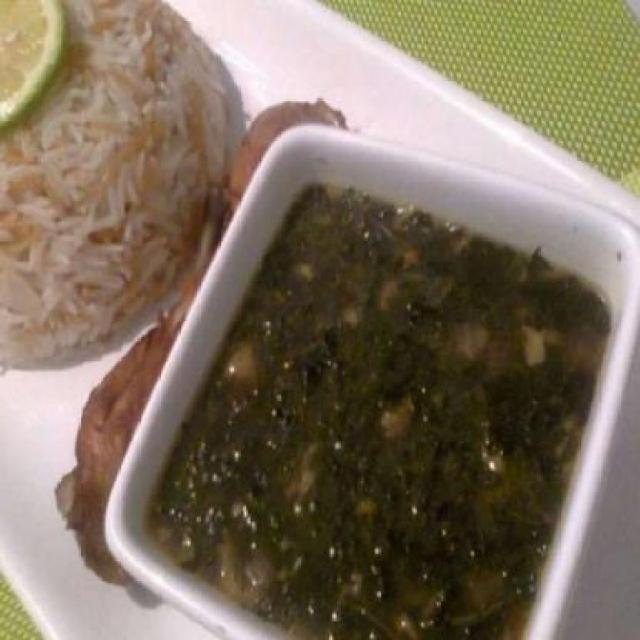chicken wings: (65, 354, 177, 568), (226, 85, 349, 170)
molokhia: (223, 188, 612, 640)
